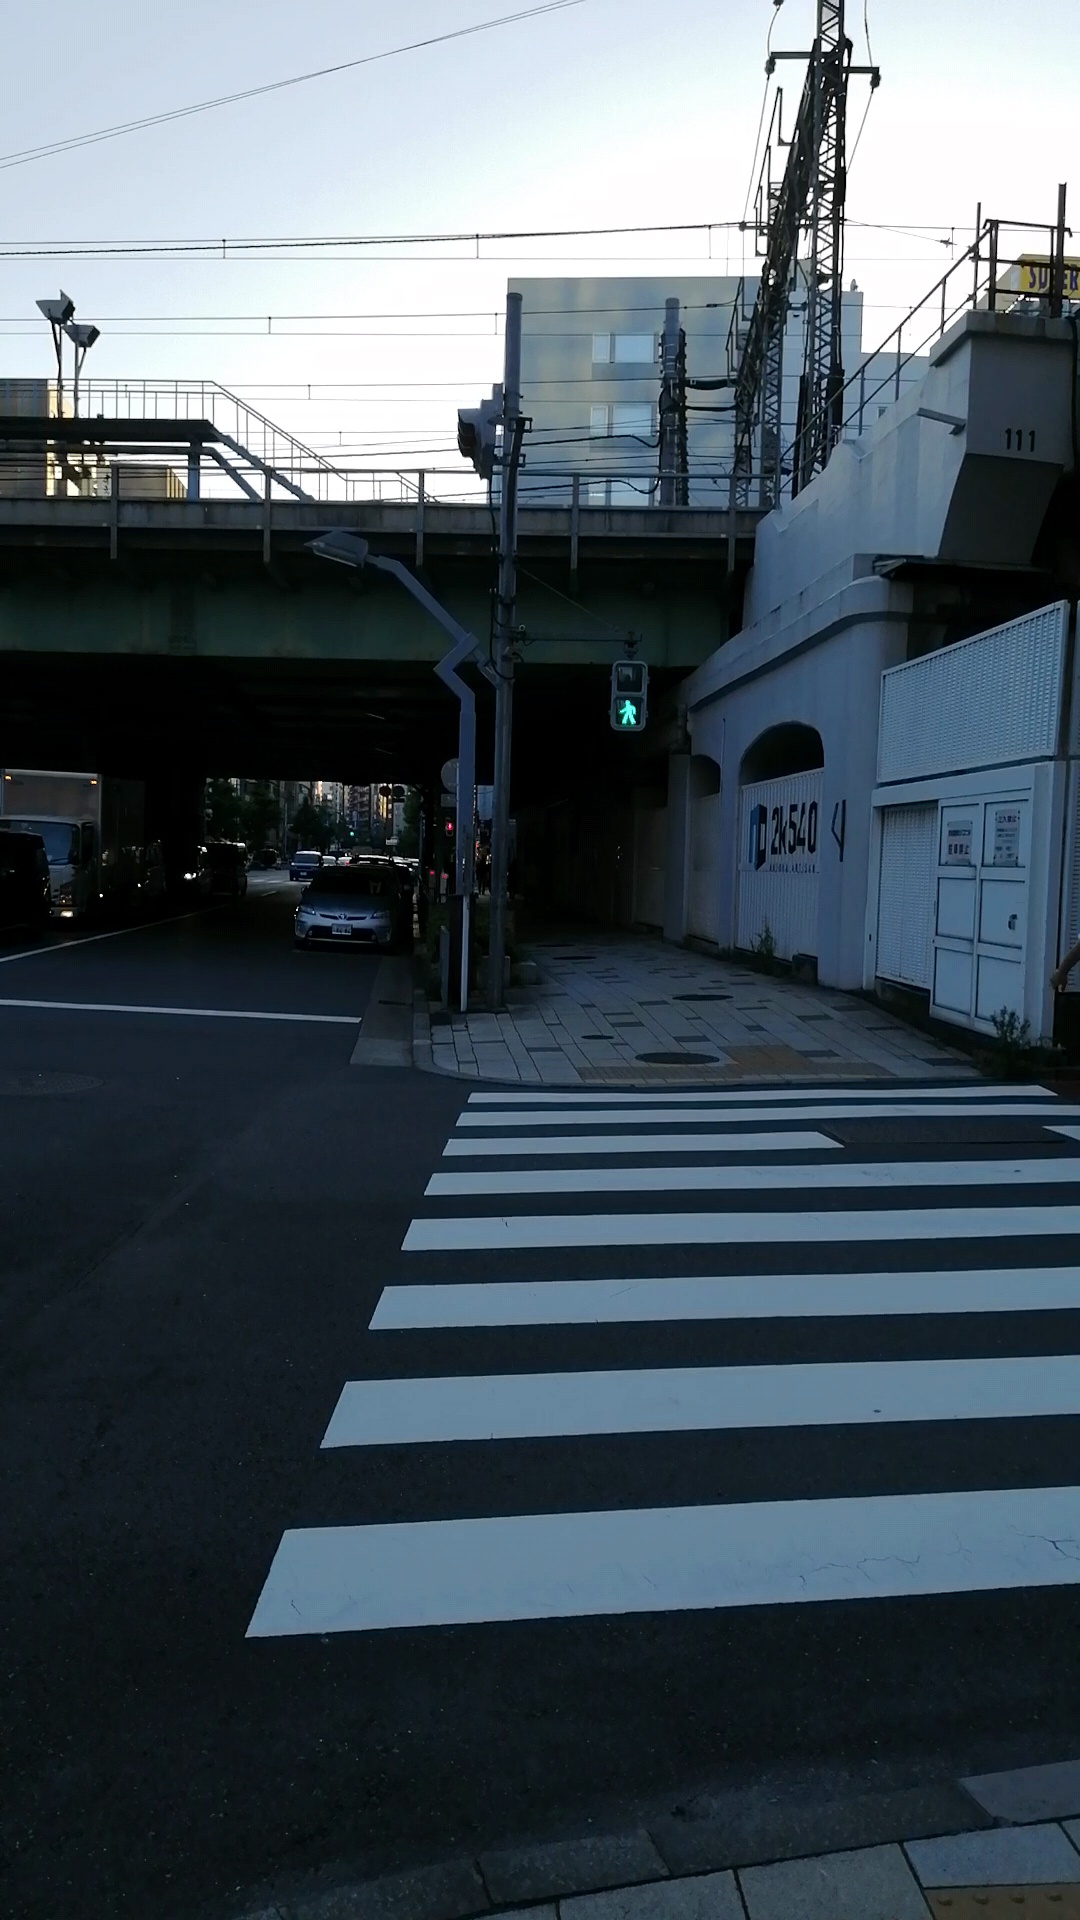green: (611, 661, 647, 733)
